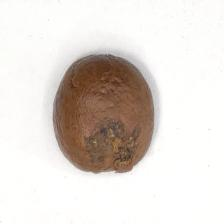NG: (85, 117, 136, 175)
